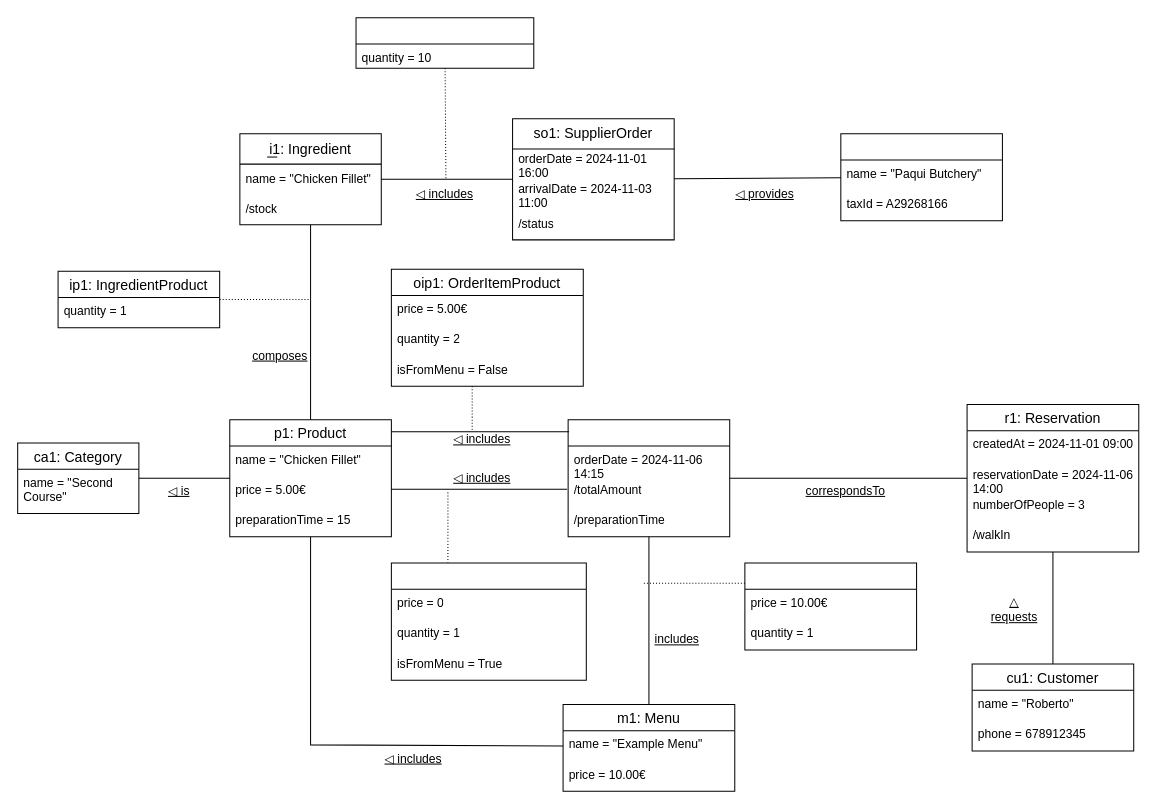
The diagram is 1156 pixels wide and 812 high, and some of its shapes have lost their labels. Here are the shapes that lost their labels. From the top down, the box of each, then its label:
(355, 17, 534, 68): oi1: OrderIngredient
(840, 133, 1002, 221): s1: Supplier
(567, 419, 730, 537): o1: Order
(390, 562, 586, 680): oip2: OrderItemProduct
(744, 562, 917, 650): oim1: OrderItemMenu
